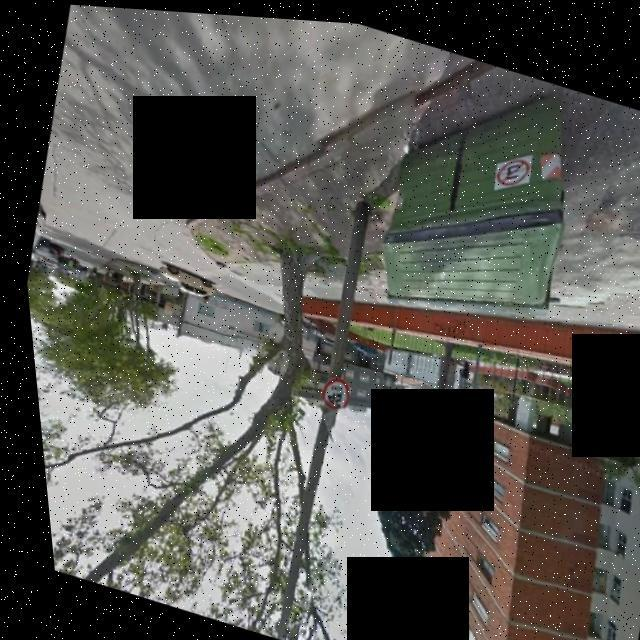bin: (339, 30, 629, 363)
